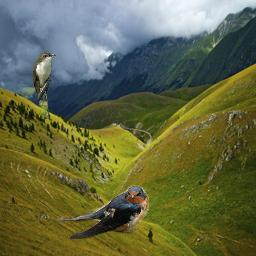Cuckoo: (33, 50, 56, 119)
Swallow: (52, 185, 149, 239)
